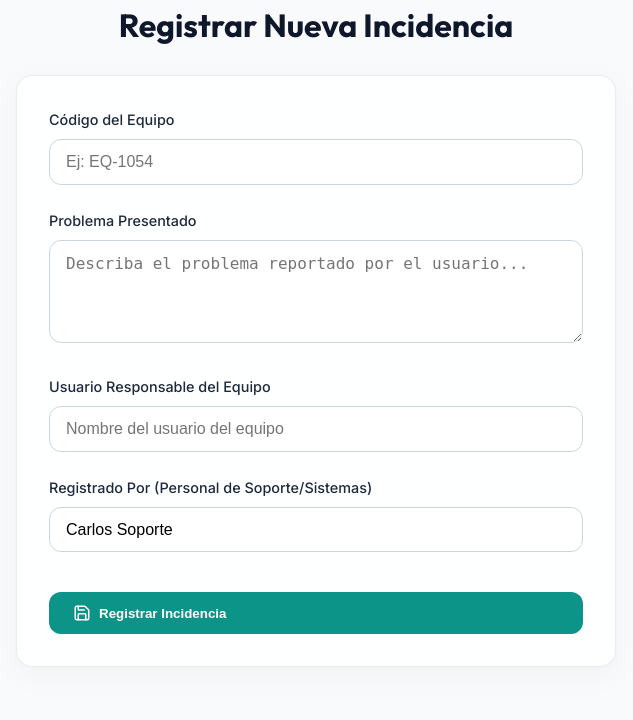
S034: RegistrarIncidencia Form Validation Tests › Debe mostrar un mensaje de error si la petición al servidor falla
The image size is (633, 720).
Type "SOP-INVALID" into the field with placeholder "Ej: EQ-1054" at (316, 162), box x1=49 y1=139 x2=583 y2=185
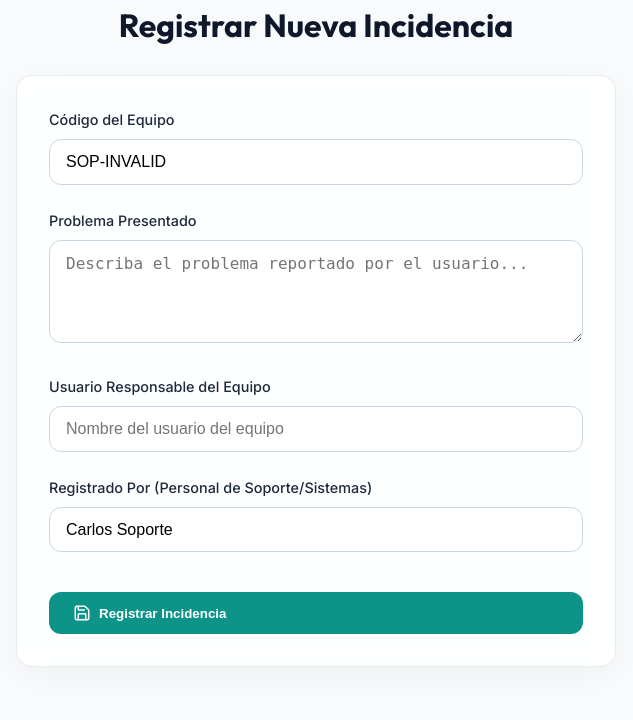
Type "Error grave" into the text box with placeholder "Describa el problema reportado por el usuario..." at (316, 292), box x1=49 y1=240 x2=583 y2=344
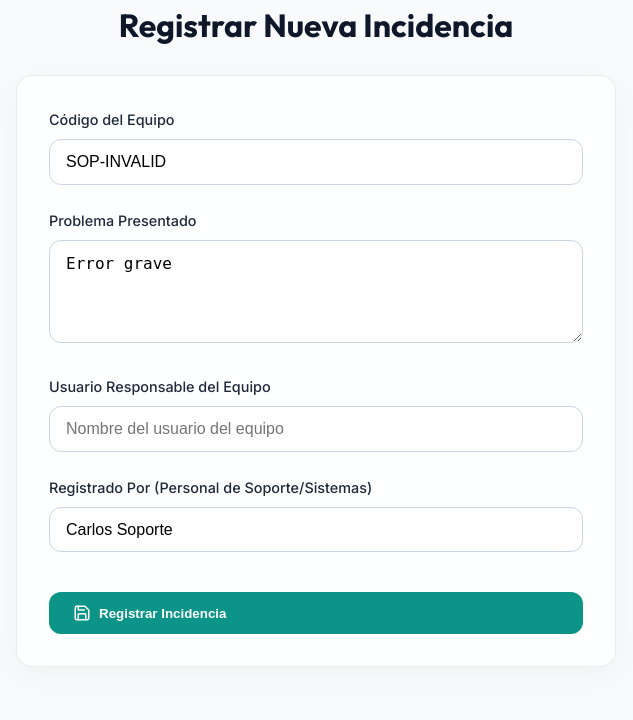
Type "Sandro" into the field with placeholder "Nombre del usuario del equipo" at (316, 429), box x1=49 y1=406 x2=583 y2=452
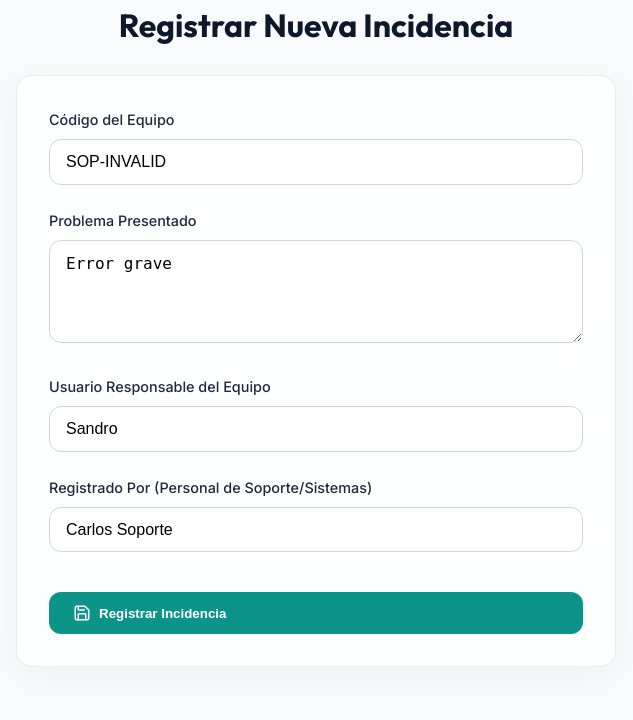
Replace the text in the 3rd field with placeholder "Tu nombre (Quien registra)" with "Admin" at (316, 530), box x1=49 y1=507 x2=583 y2=552
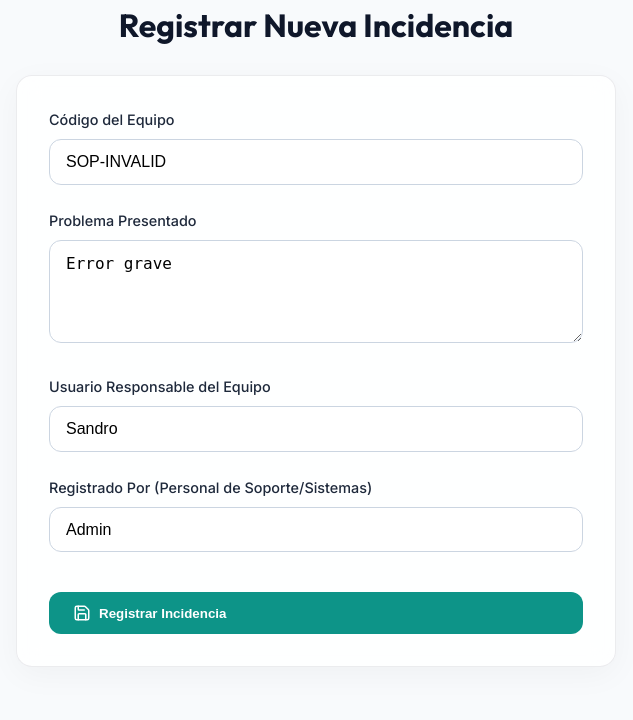
Click the button "Registrar Incidencia" at (163, 613), box x1=49 y1=592 x2=583 y2=634
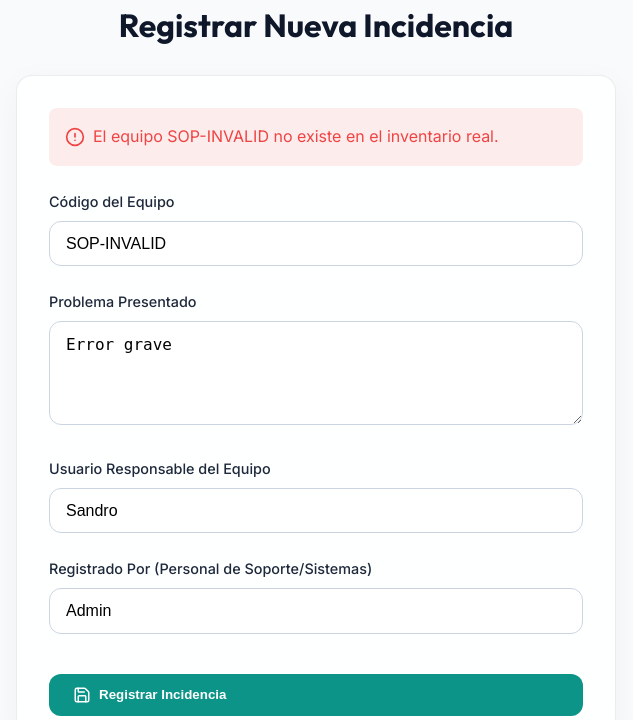
Expected: the text "El equipo SOP-INVALID no existe en el inventario real." is shown, x1=49 y1=108 x2=583 y2=166
